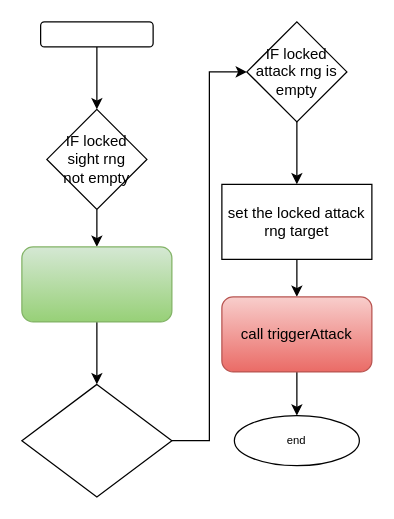
Some shapes in this 394 by 519 pixel diagram are drawn without their labels. Each missing label, with the box of its shape:
call searchTarget: (21, 246, 172, 322)
IF attack rng not empty and attack rng data has locked sight rng data: (21, 383, 172, 497)
start: (39, 21, 153, 47)
